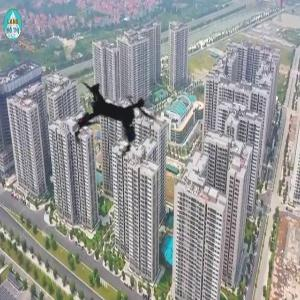drone: (42, 42, 191, 191)
